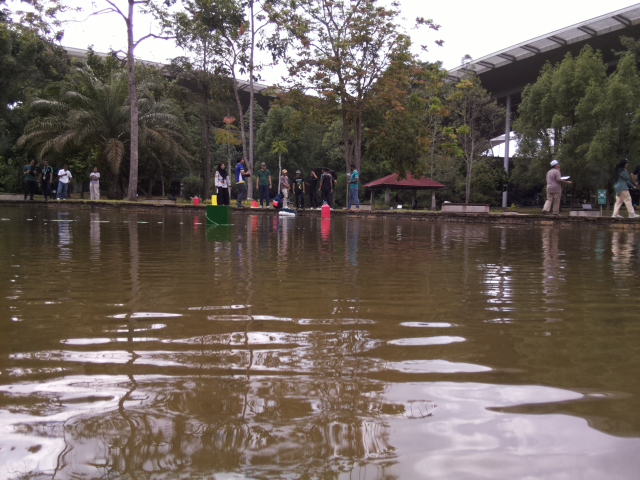obstacle: (205, 205, 231, 227)
